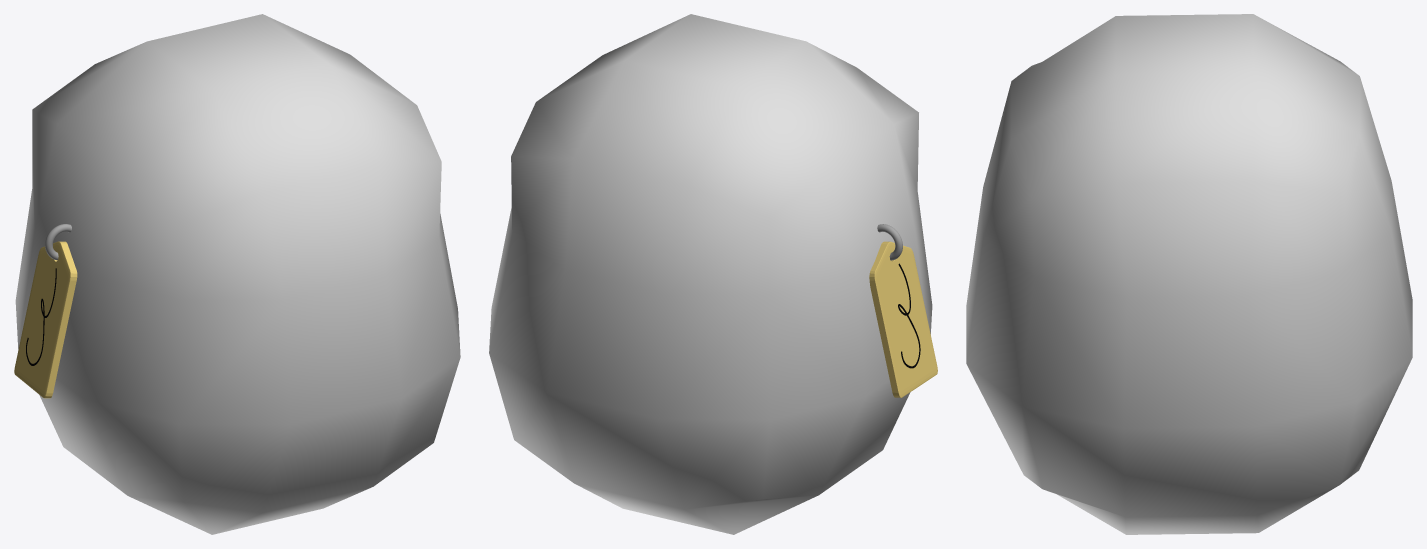
The model's file is DedWatermelon.fbx.
3 renders of one model, left to right at view 1: azimuth 30°, elevation 25°; view 2: azimuth 150°, elevation 25°; view 3: azimuth 270°, elevation 25°, orthographic. The views are drawn at different scales.
Parts seen in each view (by area): view 1: Sphere.001; view 2: Sphere.001; view 3: Sphere.001.
Part boxes in pixels (box(x1,y1,x2,y2)): Sphere.001: box(14, 14, 460, 534); Sphere.001: box(489, 14, 937, 534); Sphere.001: box(966, 14, 1412, 534).
Bounding box in the file's own units: 217 × 205 × 234.
